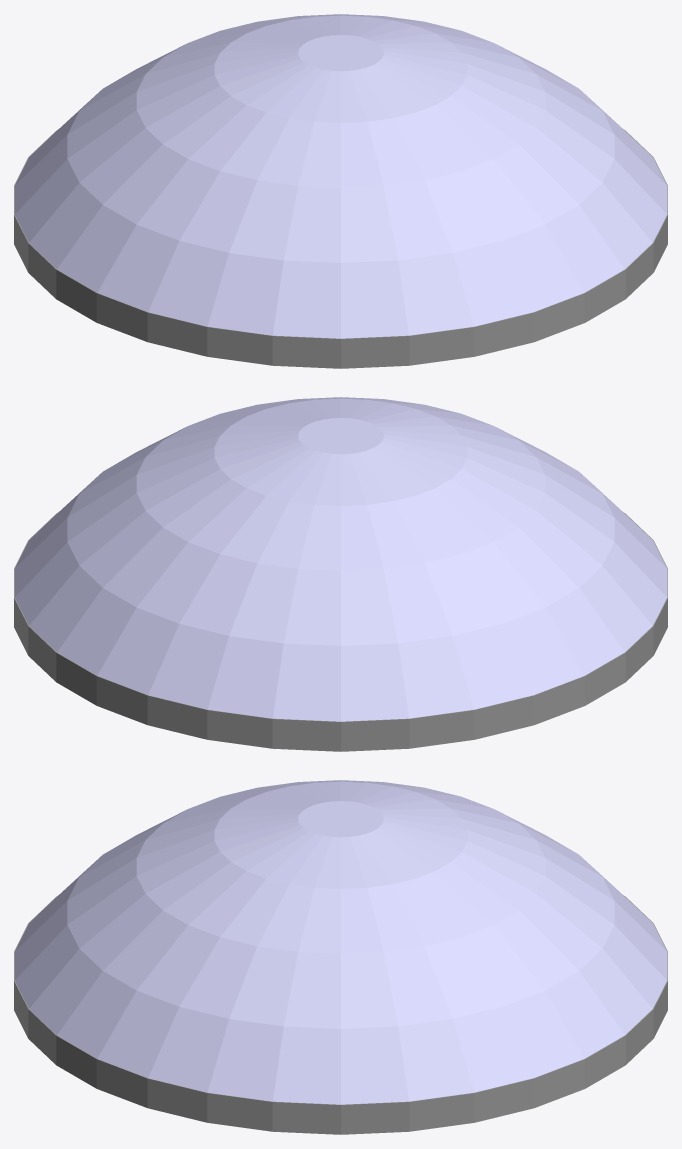
File: dome1.glb
The picture shows the model from 3 angles, top to bottom: view 1: azimuth 30°, elevation 25°; view 2: azimuth 150°, elevation 25°; view 3: azimuth 270°, elevation 25°; orthographic projection.
Size of the model in its own units: 2000 by 593 by 1989.
